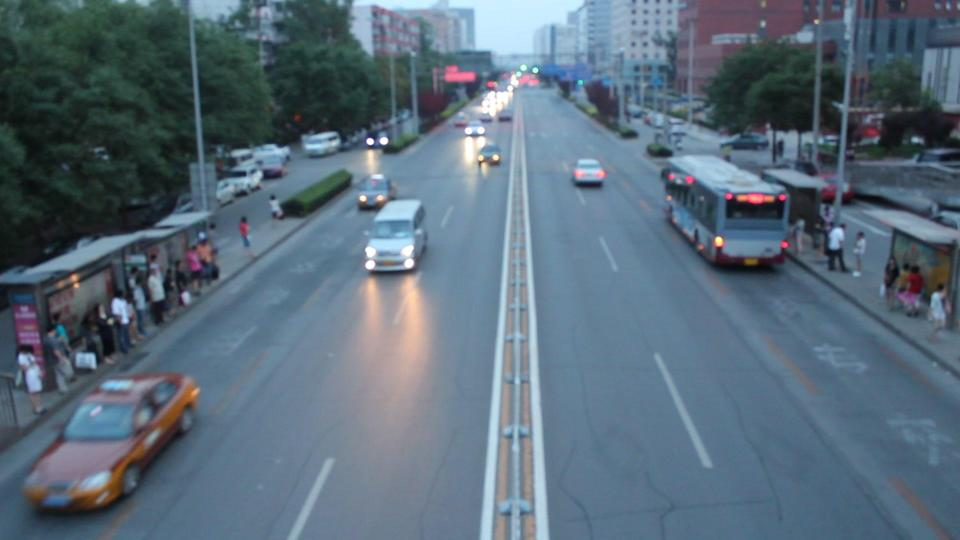Bus: (659, 153, 789, 267)
Car: (20, 373, 197, 512), (356, 170, 395, 207), (569, 158, 604, 185), (475, 143, 500, 166), (464, 118, 485, 138)
Minivan: (369, 201, 428, 274)
